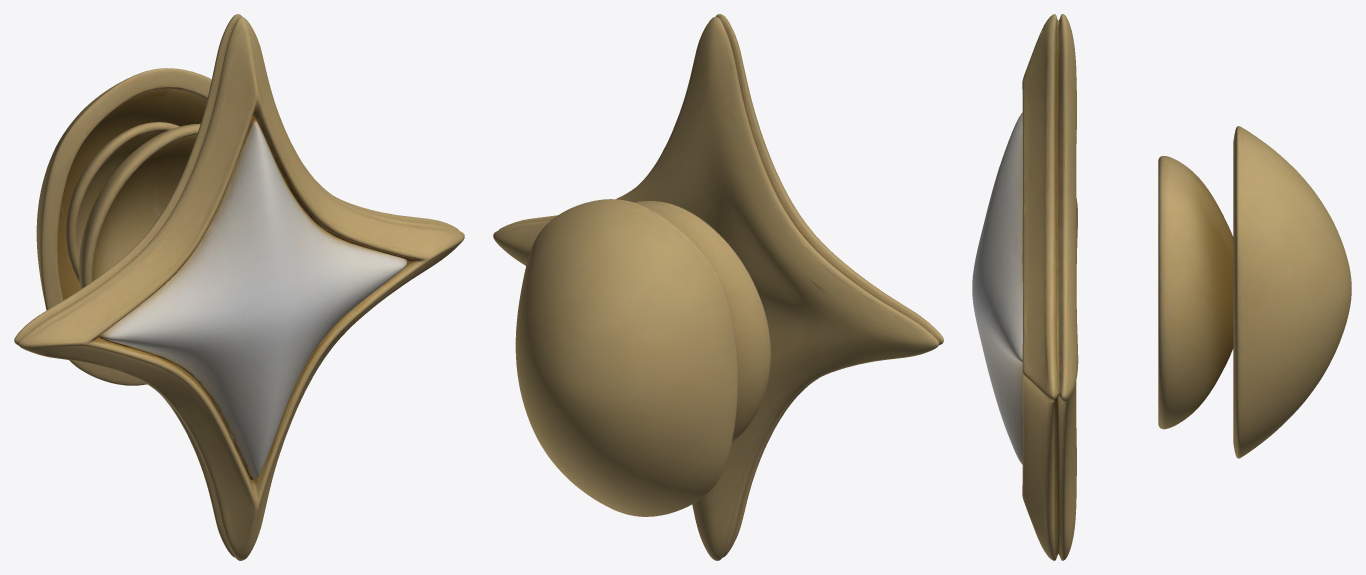
File: star_clasp.glb
3 renders of one model, left to right at view 1: azimuth 30°, elevation 25°; view 2: azimuth 150°, elevation 25°; view 3: azimuth 270°, elevation 25°, orthographic.
Visible parts, largest first — view 1: node_0; view 2: node_0; view 3: node_0.
Boxes of the visible parts, left/top/right/bottom form: node_0: left=14, top=14, right=464, bottom=560; node_0: left=493, top=14, right=943, bottom=560; node_0: left=972, top=14, right=1351, bottom=560.
Size of the model in its own units: 0.9703 by 1.13 by 0.7121.
Materials: 1 (1 with a texture image).
